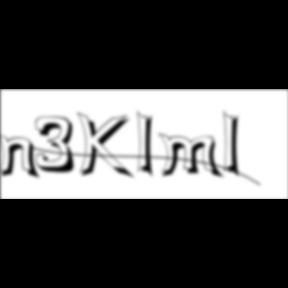3: (36, 116, 82, 176)
K: (78, 110, 136, 182)
l: (138, 108, 161, 182), (224, 108, 246, 182)
m: (158, 132, 226, 181)
n: (0, 132, 44, 181)
